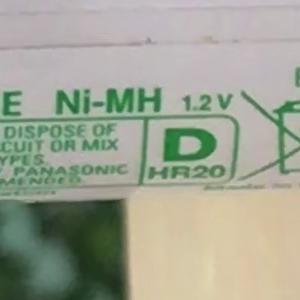keyword: (51, 79, 163, 130)
